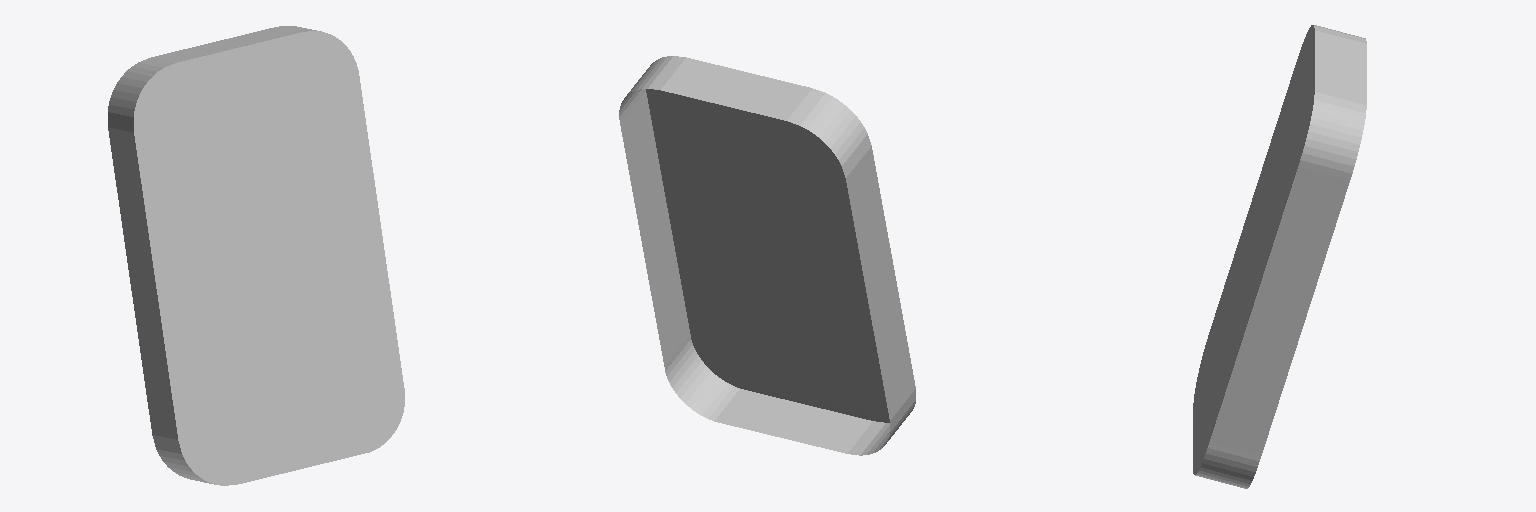
Rendered from original-68.obj.
The picture shows the model from 3 angles: view 1: azimuth 30°, elevation 25°; view 2: azimuth 150°, elevation 25°; view 3: azimuth 270°, elevation 25°; orthographic projection.
Parts seen in each view (by area): view 1: group_31/ID450#ID450; view 2: group_31/ID450#ID450; view 3: group_31/ID450#ID450.
Boxes of the visible parts, box(x1,y1,x2,y2) form: group_31/ID450#ID450: box(108, 26, 404, 485); group_31/ID450#ID450: box(619, 56, 915, 455); group_31/ID450#ID450: box(1193, 25, 1366, 488).
Bounding box in the file's own units: 0.0193 × 0.032 × 0.0129.